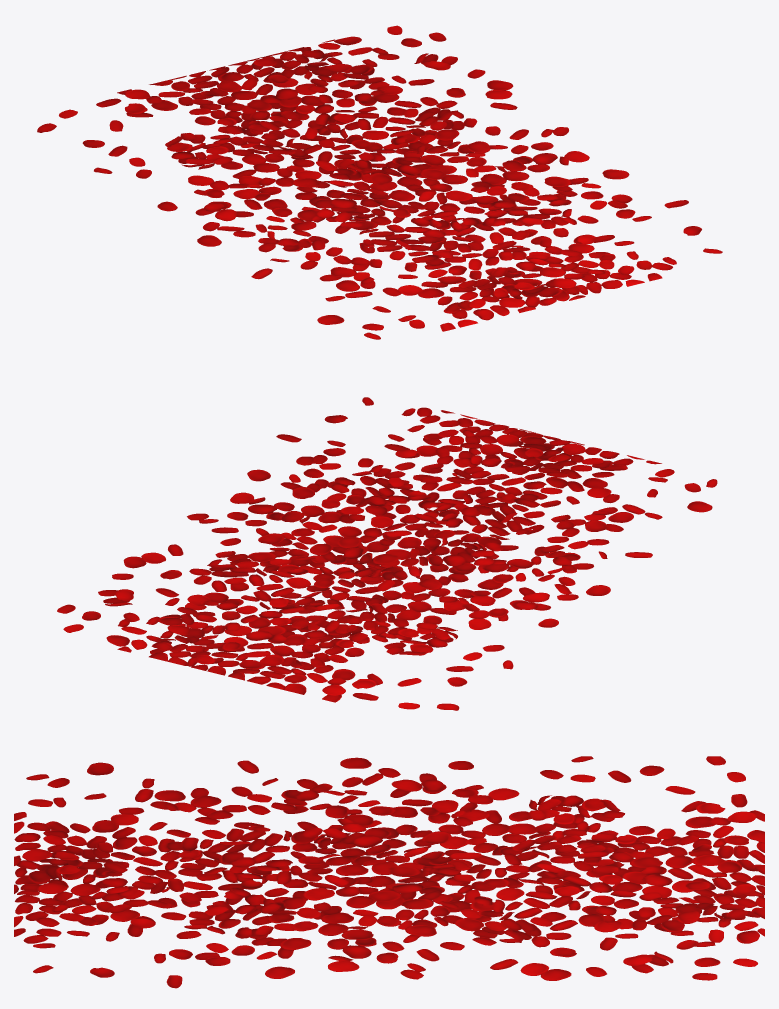
Rendered from DecorFlowerPetals01_3.FBX.
3 views of the same model, one above another, from view 1: azimuth 30°, elevation 25°; view 2: azimuth 150°, elevation 25°; view 3: azimuth 270°, elevation 25° (orthographic). The views are drawn at different scales.
Parts seen in each view (by area): view 1: DecorFlowerPetals01_3; view 2: DecorFlowerPetals01_3; view 3: DecorFlowerPetals01_3.
Part boxes in pixels (x1,y1,x2,y2): DecorFlowerPetals01_3: (37, 25, 722, 339); DecorFlowerPetals01_3: (57, 397, 717, 710); DecorFlowerPetals01_3: (14, 756, 764, 988).
Size of what is drawn, in the model's own units: 1.5 by 0.00848 by 2.
